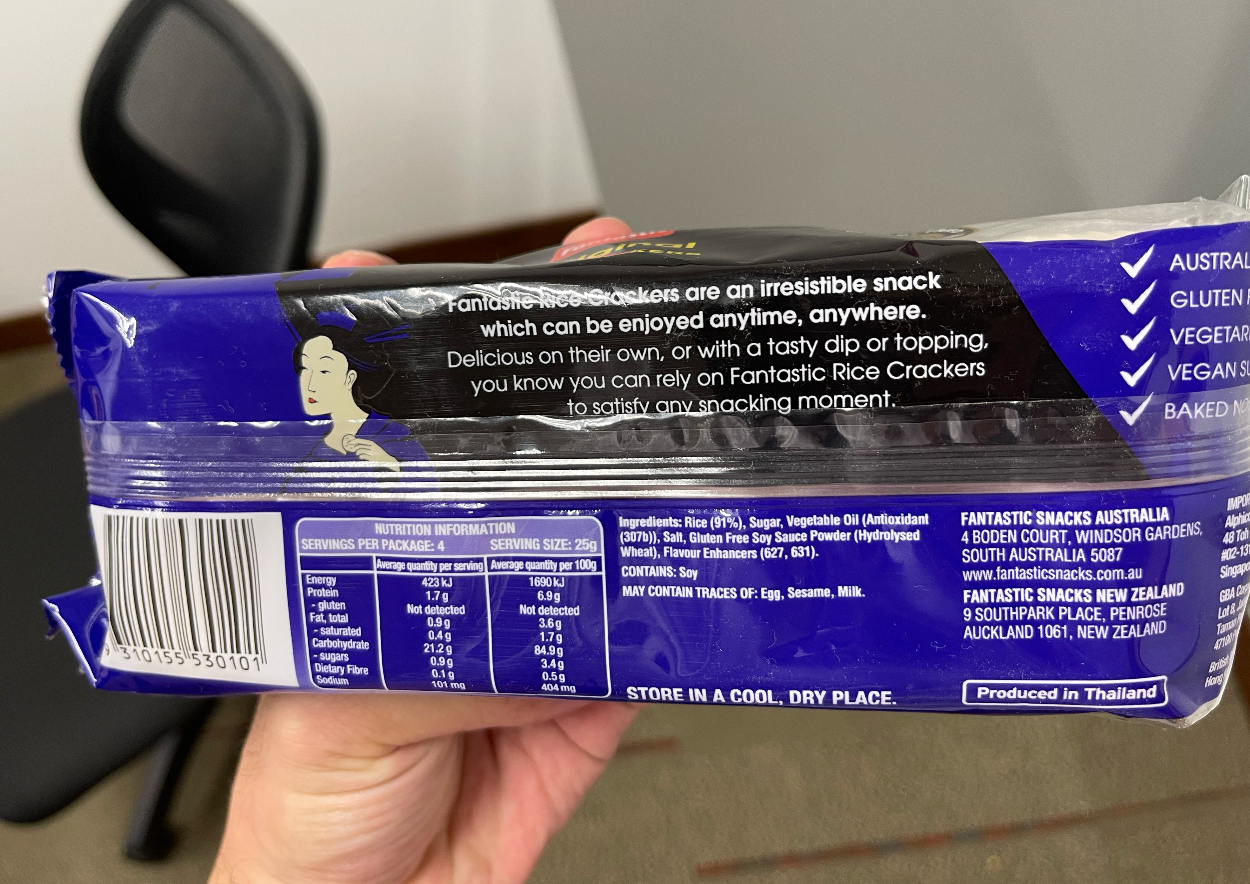crackers_100g-199g: (98, 282, 1208, 713)
